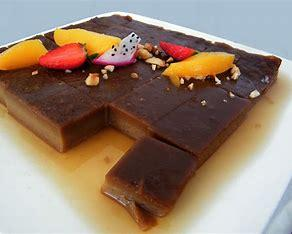Watalappam: (10, 9, 252, 192)
